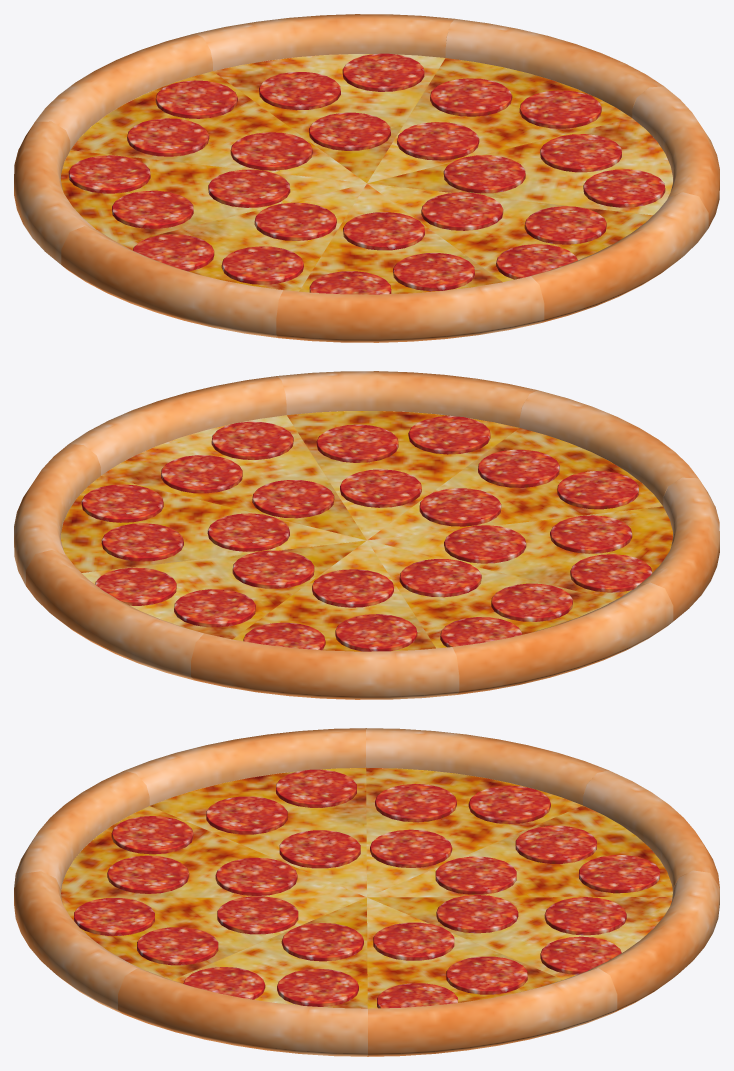
File: Pizza.fbx
3 views of the same model, one above another, from view 1: azimuth 30°, elevation 25°; view 2: azimuth 150°, elevation 25°; view 3: azimuth 270°, elevation 25° (orthographic).
Parts seen in each view (by area): view 1: Pizza1, Pizza5, Pizza2, Pizza6, Pizza, Pizza4, Pizza3, Pizza7; view 2: Pizza4, Pizza, Pizza3, Pizza7, Pizza5, Pizza1, Pizza2, Pizza6; view 3: Pizza6, Pizza7, Pizza3, Pizza2, Pizza5, Pizza, Pizza4, Pizza1.
Boxes of the visible parts, box(x1,y1,x2,y2) form: Pizza1: box(195, 14, 454, 182); Pizza5: box(276, 183, 544, 342); Pizza2: box(367, 19, 663, 183); Pizza6: box(61, 183, 366, 337); Pizza: box(35, 33, 366, 183); Pizza4: box(367, 183, 708, 322); Pizza3: box(367, 86, 719, 227); Pizza7: box(14, 121, 366, 264); Pizza4: box(277, 371, 537, 539); Pizza: box(191, 540, 459, 699); Pizza3: box(69, 376, 366, 540); Pizza7: box(367, 540, 673, 694); Pizza5: box(367, 390, 698, 540); Pizza1: box(26, 540, 366, 680); Pizza2: box(14, 444, 366, 585); Pizza6: box(367, 477, 719, 621); Pizza6: box(124, 728, 366, 897); Pizza7: box(366, 728, 608, 897); Pizza3: box(118, 897, 367, 1056); Pizza2: box(367, 897, 617, 1056); Pizza5: box(14, 771, 365, 897); Pizza: box(368, 770, 719, 897); Pizza4: box(14, 871, 366, 1013); Pizza1: box(367, 870, 719, 1013).
Bounding box in the file's own units: 42.6 × 2.66 × 42.6.
